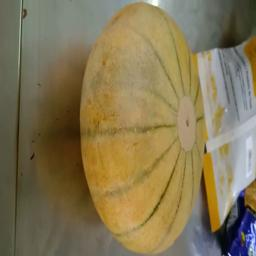Melon Semifresh: (81, 3, 205, 255)
